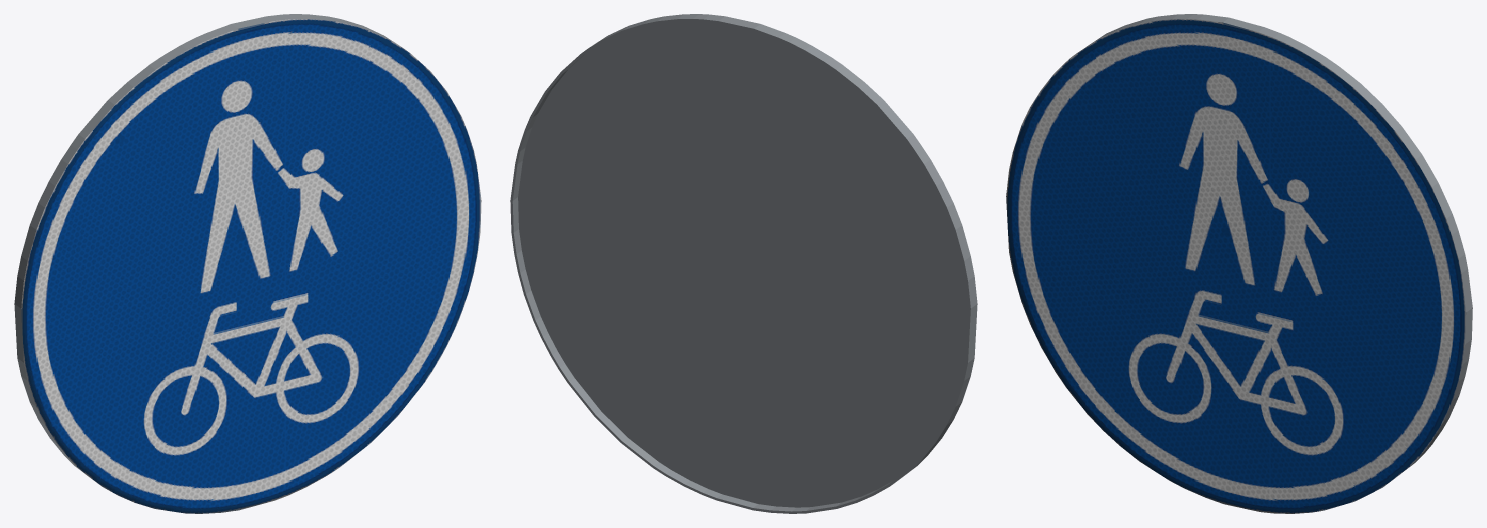
The picture shows the model from 3 angles, left to right: view 1: azimuth 30°, elevation 25°; view 2: azimuth 150°, elevation 25°; view 3: azimuth 330°, elevation 25°; orthographic projection.
Visible parts, largest first — view 1: cat_495a2405cd445c59; view 2: cat_495a2405cd445c59; view 3: cat_495a2405cd445c59.
Part boxes in pixels (x1=…): cat_495a2405cd445c59: x1=14, y1=14, x2=481, y2=513; cat_495a2405cd445c59: x1=510, y1=14, x2=977, y2=513; cat_495a2405cd445c59: x1=1006, y1=14, x2=1472, y2=513.
Bounding box in the file's own units: 0.6 × 0.015 × 0.6.
2 materials, 1 textured.
